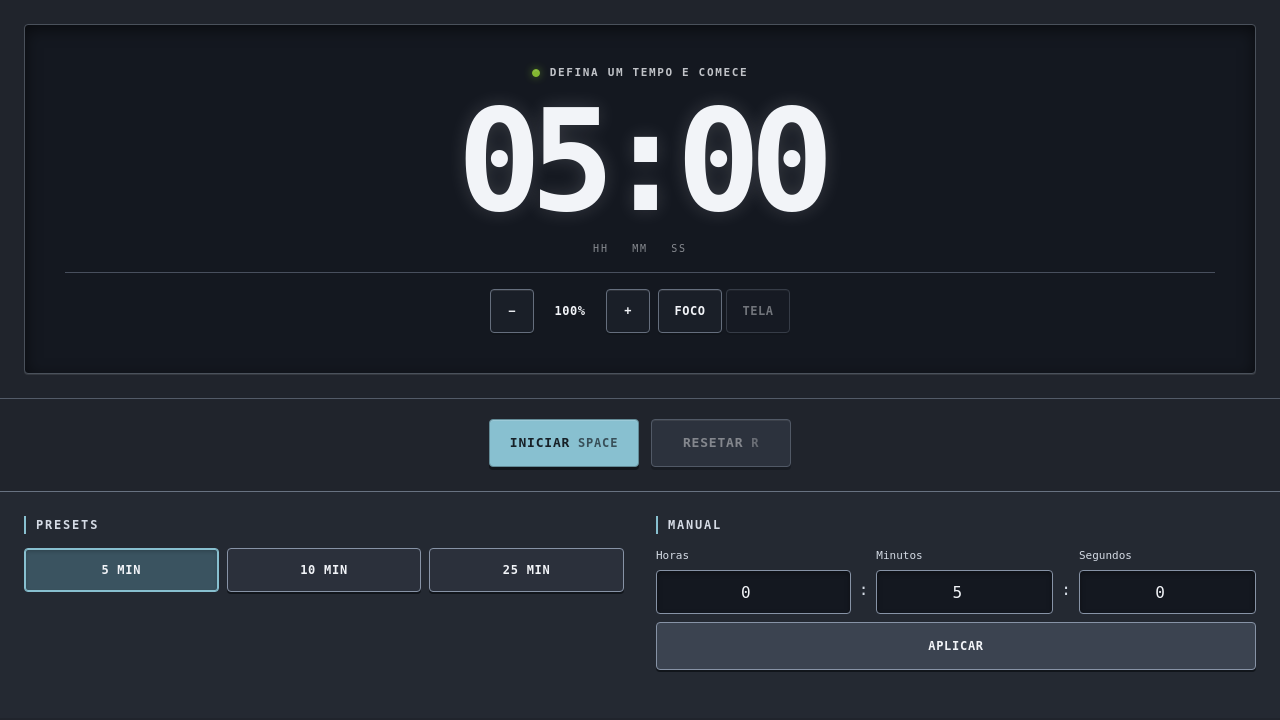
Test: TimerPanel › shows an error for an empty duration
Clear the number field labelled "Horas" at (753, 592), box [656, 570, 851, 614]
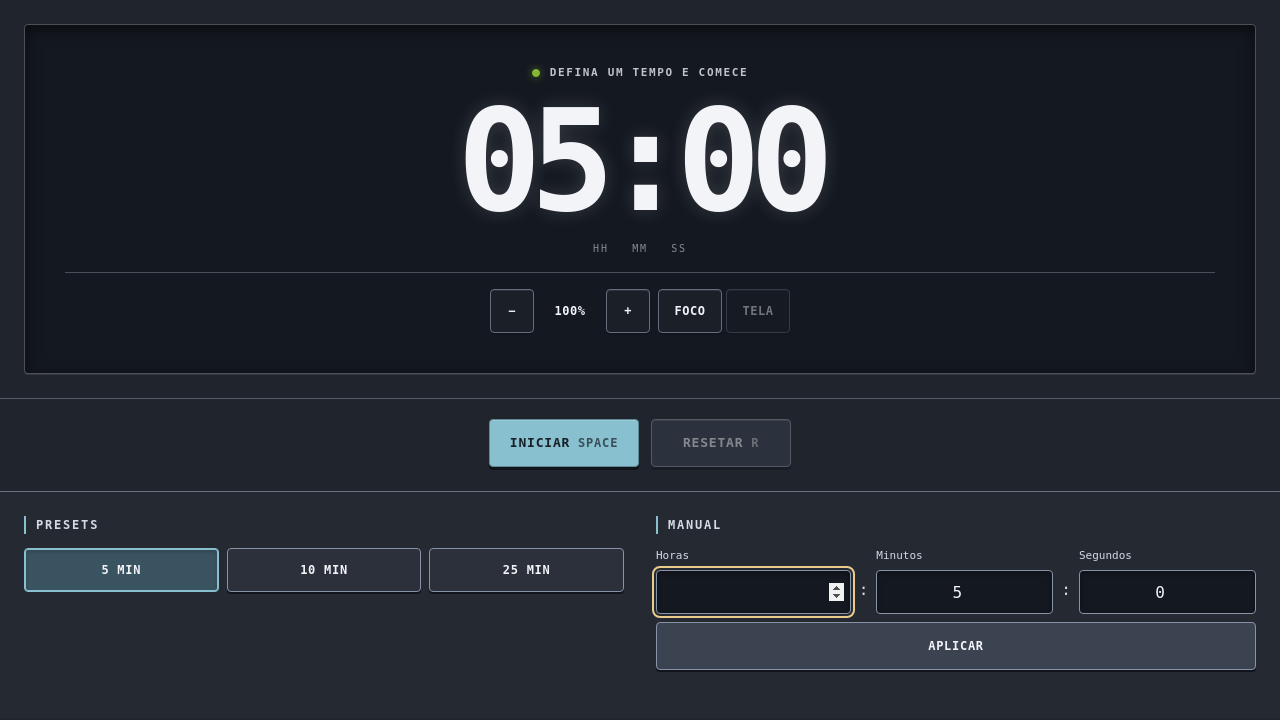
Clear the number field labelled "Minutos" at (965, 592), box [876, 570, 1053, 614]
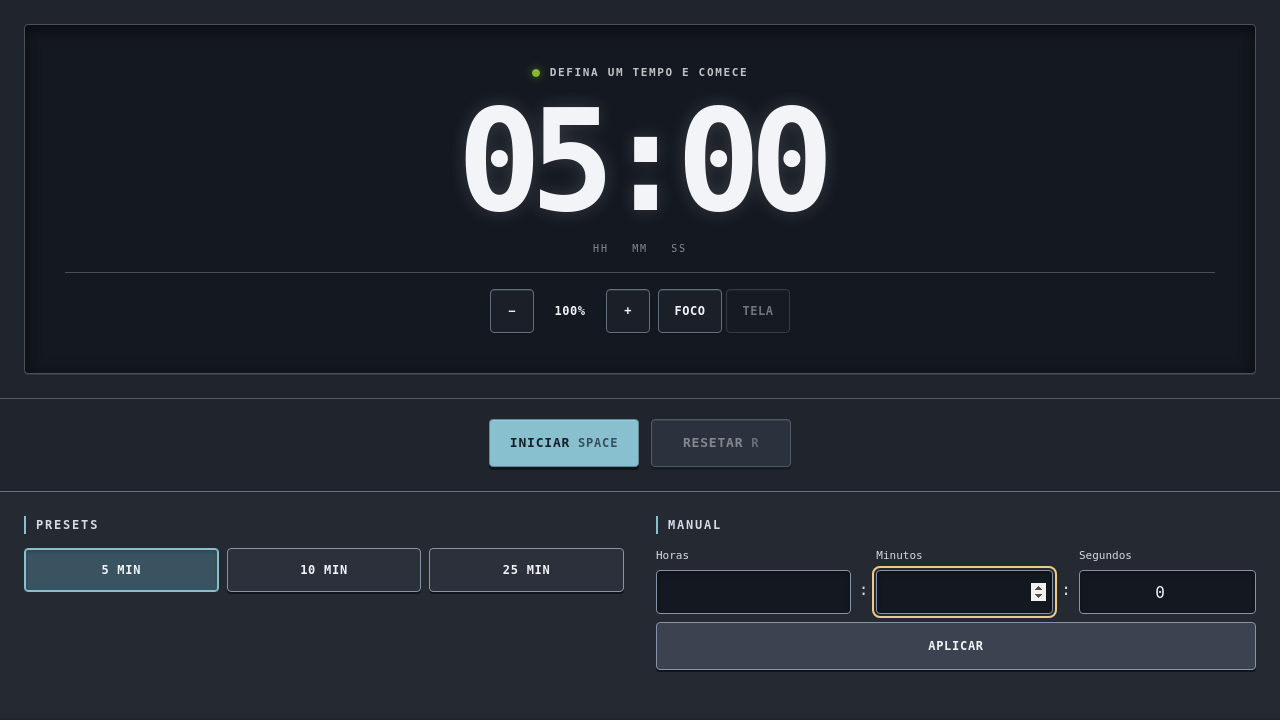
Clear the number field labelled "Segundos" at (1168, 592), box [1079, 570, 1256, 614]
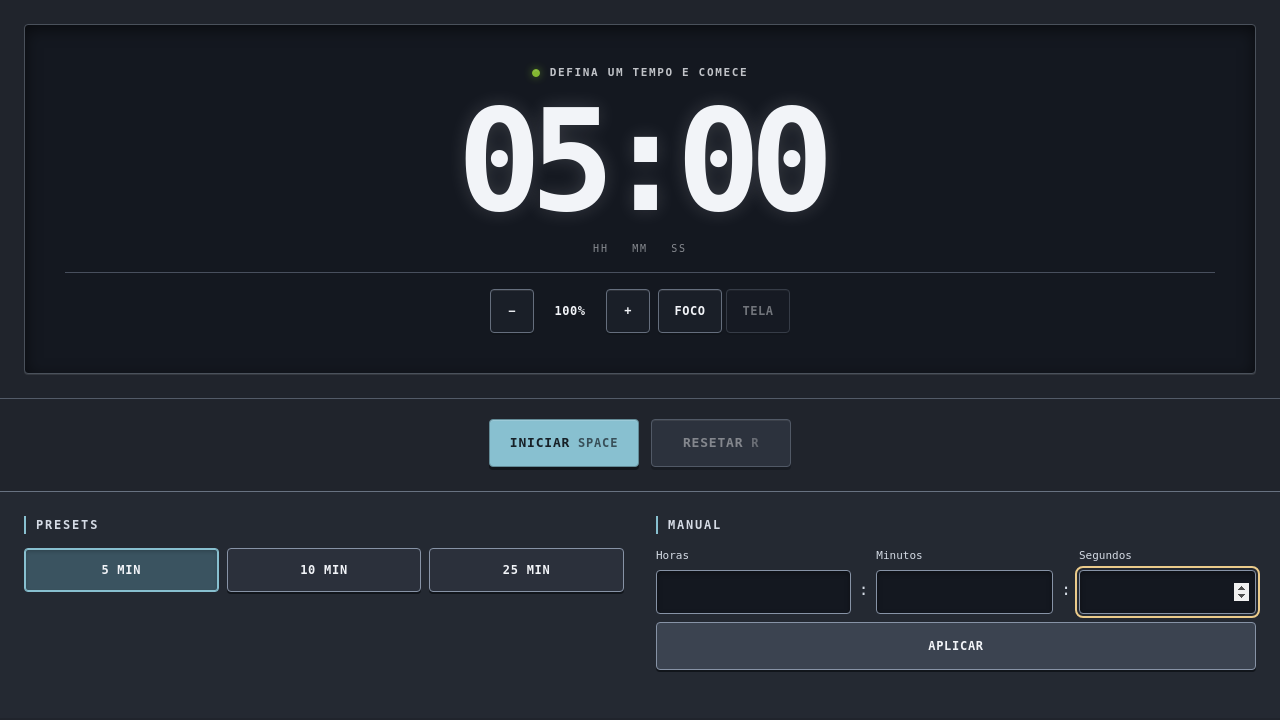
Click the button "Aplicar".
click(956, 646)  # box [656, 622, 1256, 670]
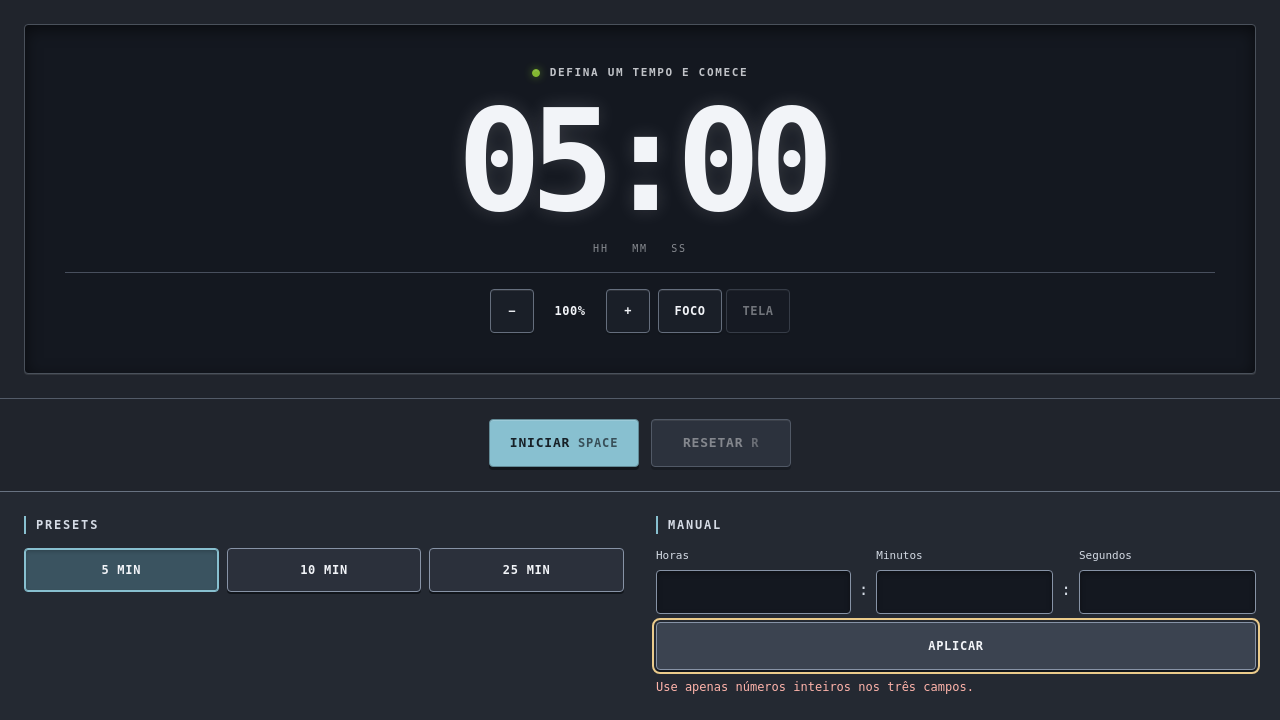
Check: the message reads "Use apenas números inteiros nos três campos.", box [656, 680, 974, 694]
